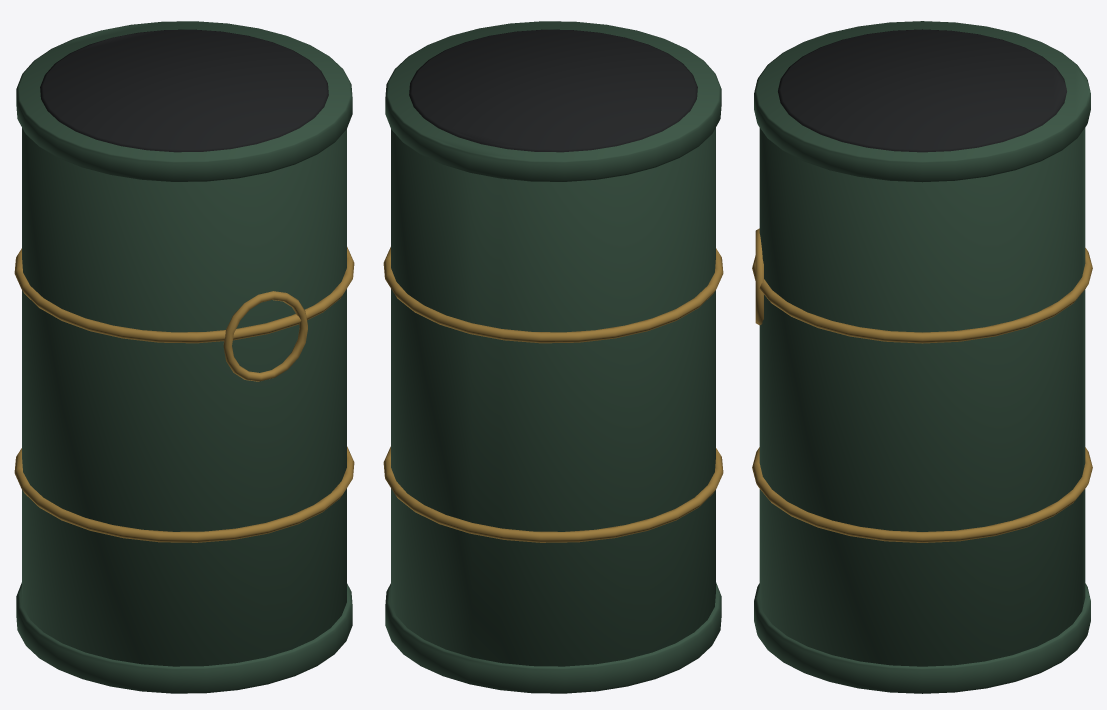
Rendered from asset_099_umbrella_stand.glb.
The picture shows the model from 3 angles, left to right: view 1: azimuth 30°, elevation 25°; view 2: azimuth 150°, elevation 25°; view 3: azimuth 270°, elevation 25°; orthographic projection.
Visible parts, largest first — view 1: MESH_StandWall, MESH_StandBore, MESH_StandRim, MESH_StandBase, MESH_StandBand_0, MESH_StandBand_1, MESH_StandCrest; view 2: MESH_StandWall, MESH_StandBore, MESH_StandRim, MESH_StandBase, MESH_StandBand_0, MESH_StandBand_1; view 3: MESH_StandWall, MESH_StandBore, MESH_StandRim, MESH_StandBase, MESH_StandBand_0, MESH_StandBand_1, MESH_StandCrest.
Part boxes in pixels (left/top/right/bottom): MESH_StandWall: left=22, top=128, right=346, bottom=666; MESH_StandBore: left=40, top=29, right=328, bottom=152; MESH_StandRim: left=16, top=21, right=352, bottom=181; MESH_StandBase: left=16, top=582, right=352, bottom=693; MESH_StandBand_0: left=14, top=446, right=354, bottom=542; MESH_StandBand_1: left=14, top=247, right=354, bottom=343; MESH_StandCrest: left=223, top=291, right=307, bottom=381; MESH_StandWall: left=391, top=128, right=715, bottom=666; MESH_StandBore: left=409, top=29, right=697, bottom=152; MESH_StandRim: left=385, top=21, right=721, bottom=181; MESH_StandBase: left=385, top=582, right=721, bottom=693; MESH_StandBand_0: left=383, top=446, right=723, bottom=542; MESH_StandBand_1: left=383, top=247, right=723, bottom=343; MESH_StandWall: left=759, top=128, right=1085, bottom=666; MESH_StandBore: left=778, top=29, right=1066, bottom=152; MESH_StandRim: left=754, top=21, right=1090, bottom=182; MESH_StandBase: left=754, top=583, right=1090, bottom=693; MESH_StandBand_0: left=752, top=447, right=1092, bottom=542; MESH_StandBand_1: left=752, top=248, right=1092, bottom=343; MESH_StandCrest: left=755, top=228, right=763, bottom=325.
Bounding box in the file's own units: 0.356 × 0.62 × 0.356.
